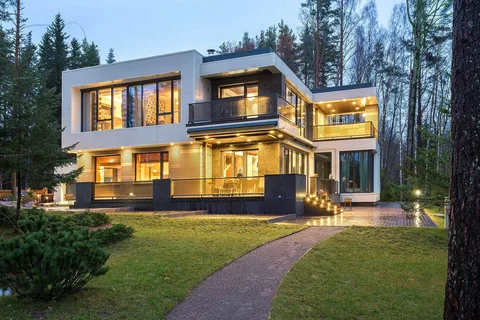private_hause: (63, 66, 385, 213)
